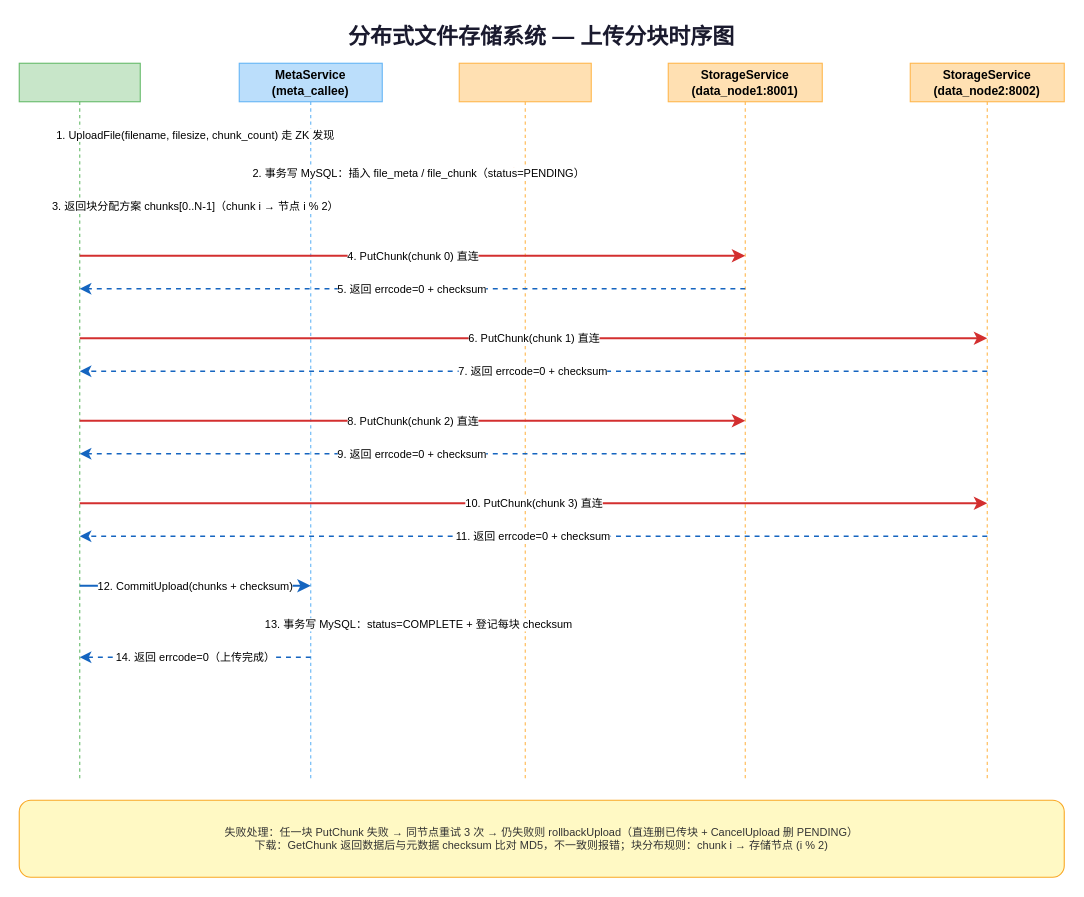
This 1084x897 diagram has some shape labels left out. Here are the shapes that lost their labels. From the top down, the box of each, then its label:
(18, 62, 140, 778): fs_caller (客户端)
(458, 62, 591, 778): MySQL (filestore 库)
